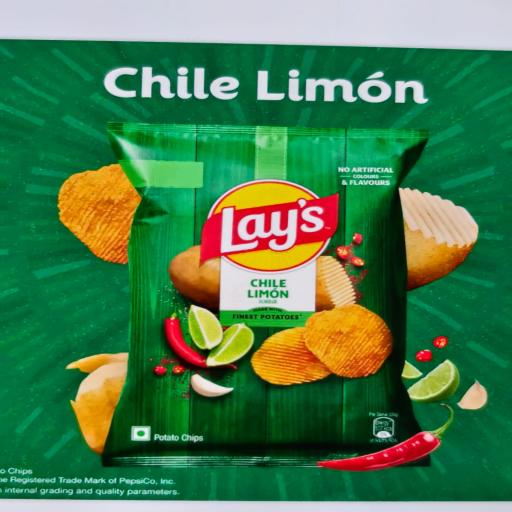green_chips: (103, 123, 427, 465)
